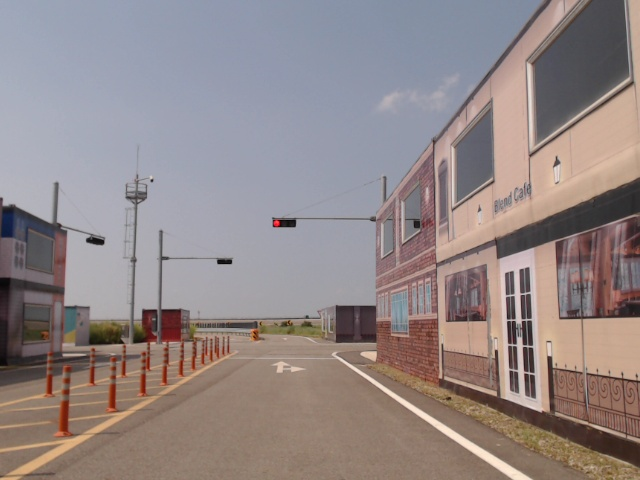red_3: (272, 219, 296, 227)
